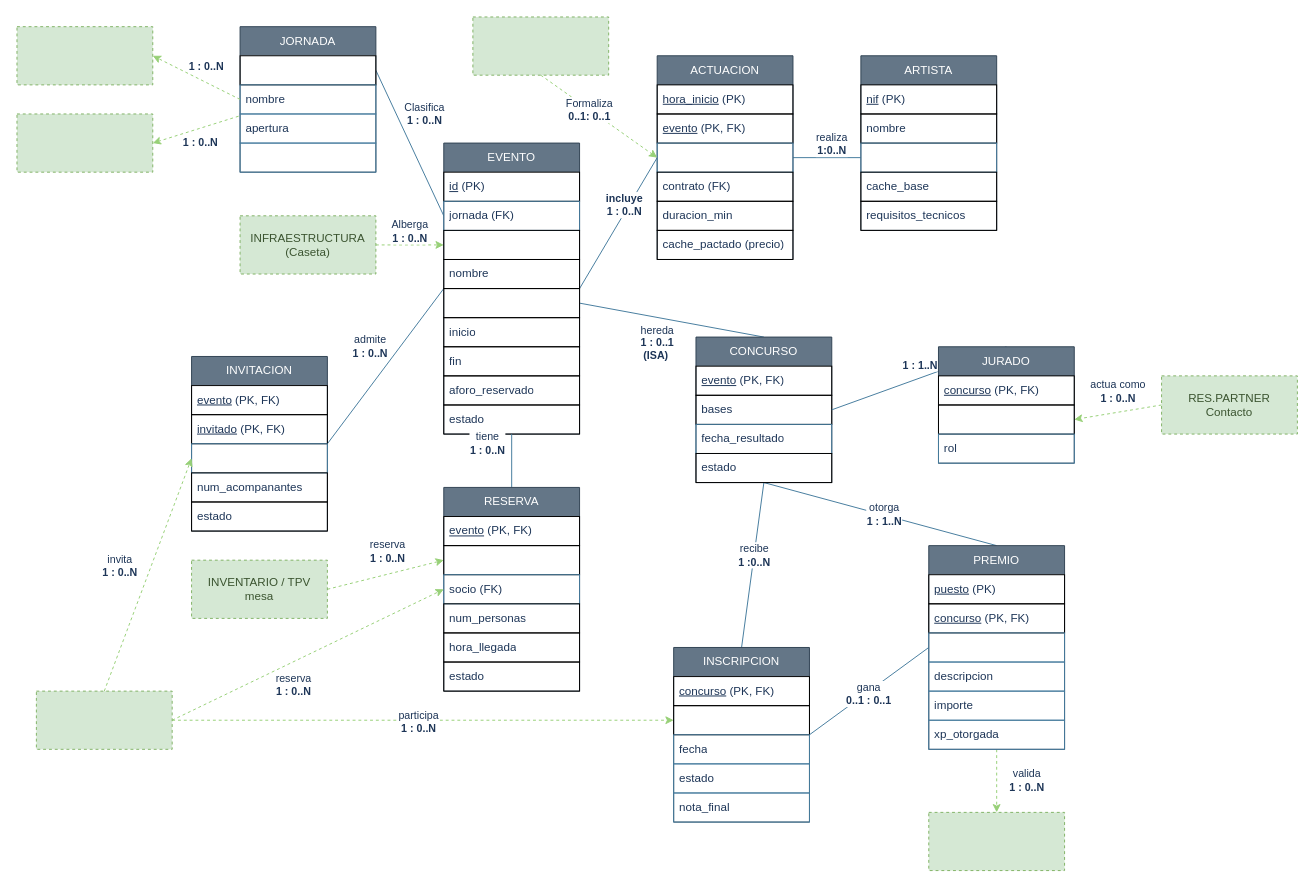
Some shapes in this 1314 by 888 pixel diagram are drawn without their labels. The centre of each missing label's shape, as x and y in pixels:
artista (PK, FK): point 724,157
caseta (FK): point 511,244
cierre: point 307,157
CONTRATOS Y PROVEEDORES contrato: point 540,45
disciplina: point 928,157
fecha_inicio (PK): point 307,70
mesa (PK, FK): point 511,560
PASE DE FERIA Historial XP: point 996,841
persona (PK, FK): point 1006,419
RRHH Turno: point 84,142
socio (PK, FK): point 741,720
socio_anfitrion (FK): point 259,458
socio_ganador (FK): point 996,647
SOCIOS Y ACCESO Control de aforo: point 84,55
SOCIOS Y ACCESO Socio: point 103,719
tipo: point 511,303
